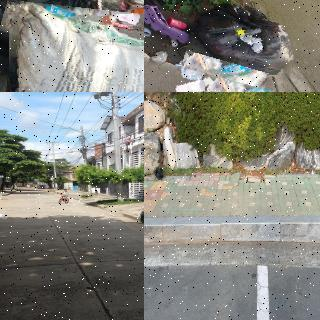Garbage: (6, 7, 144, 92), (185, 0, 301, 89), (0, 0, 125, 53), (144, 52, 283, 92), (152, 163, 168, 182), (138, 208, 144, 221)
